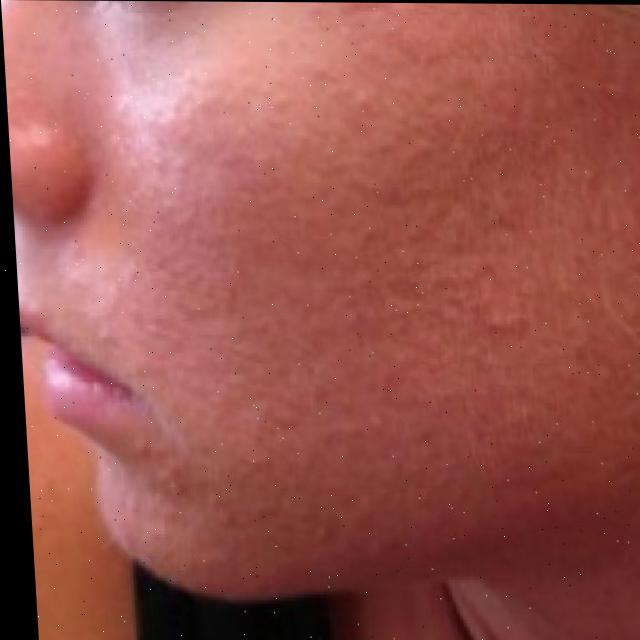Acne: (134, 21, 610, 526)
